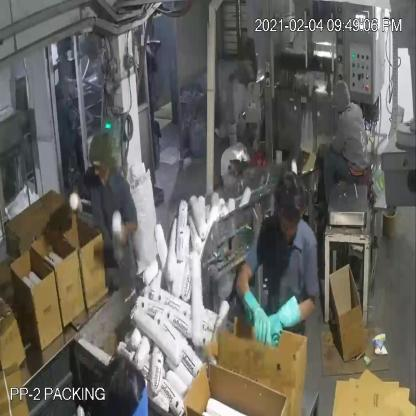glove: (268, 286, 308, 351), (234, 290, 272, 347)
no_glove: (110, 212, 144, 248)
